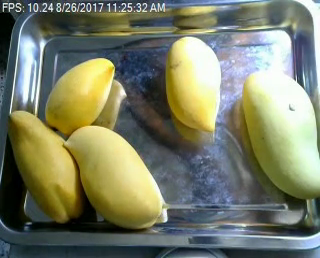Mango: (240, 67, 320, 201), (65, 125, 164, 229), (8, 110, 83, 226), (164, 35, 219, 132), (42, 58, 113, 130)
